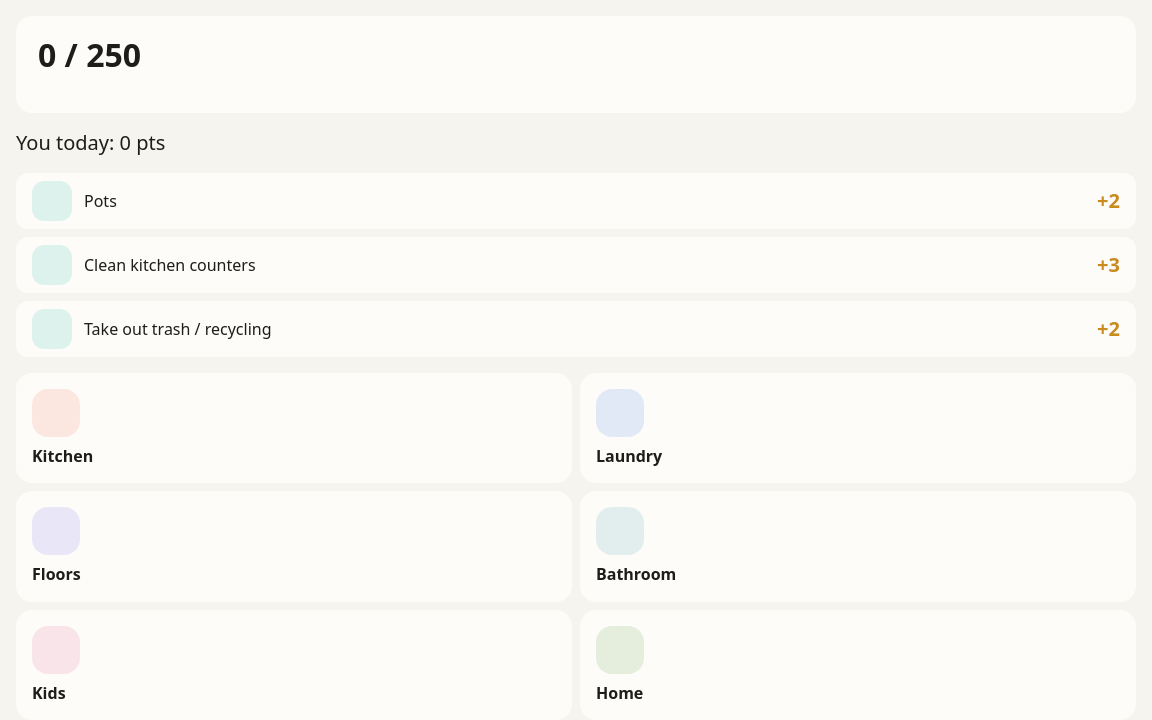
LogScreen › tapping a quick task logs it, updates the bar in the same frame, and opens the Next time sheet
The width and height of the screenshot is (1152, 720).
Click the button with test id "task-button" showing "Pots +2": (52,201) [16,173,1136,229]
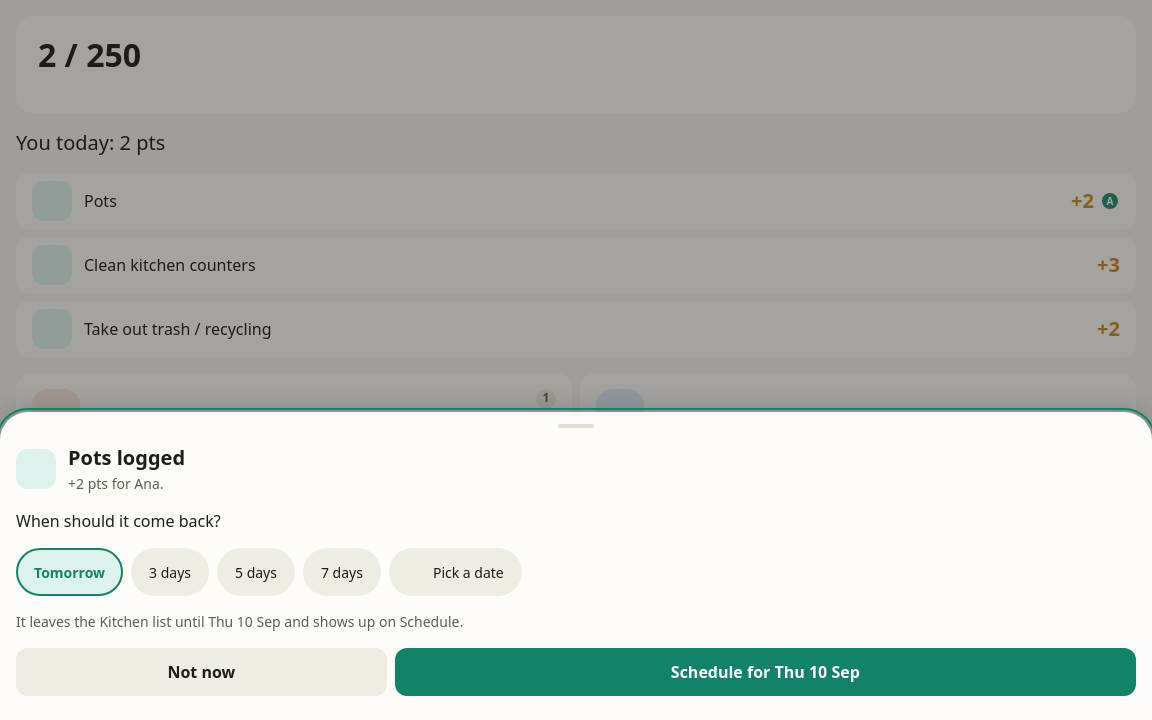
Now the text "2 / 250" is shown, box [38,33,141,78]
Now the dialog shows "Pots logged", box [68,444,185,471]
